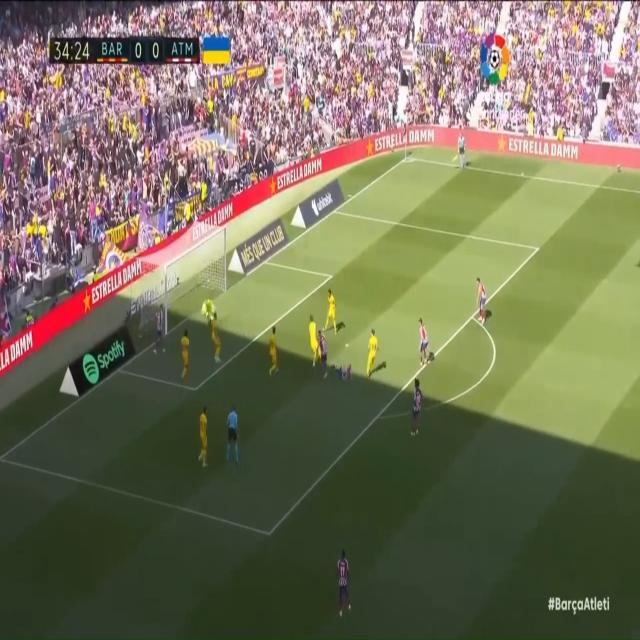goalkeeper: (191, 287, 217, 337)
player: (330, 539, 355, 628), (198, 400, 216, 475), (407, 373, 424, 451), (360, 316, 382, 371), (267, 319, 286, 379), (473, 267, 490, 331), (326, 283, 344, 340), (305, 309, 322, 369), (316, 328, 332, 388), (416, 309, 431, 370), (177, 328, 193, 384), (207, 310, 222, 369), (154, 301, 167, 361), (339, 351, 356, 391)
referee: (224, 402, 245, 469), (453, 129, 470, 173)
